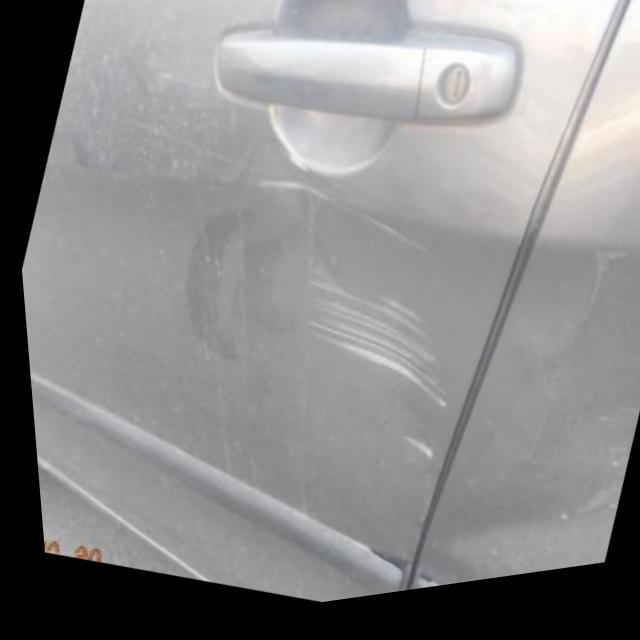dent: (473, 247, 640, 587), (571, 251, 623, 345)
rub: (293, 285, 440, 426), (242, 180, 435, 281)
scratch: (390, 439, 432, 485)
